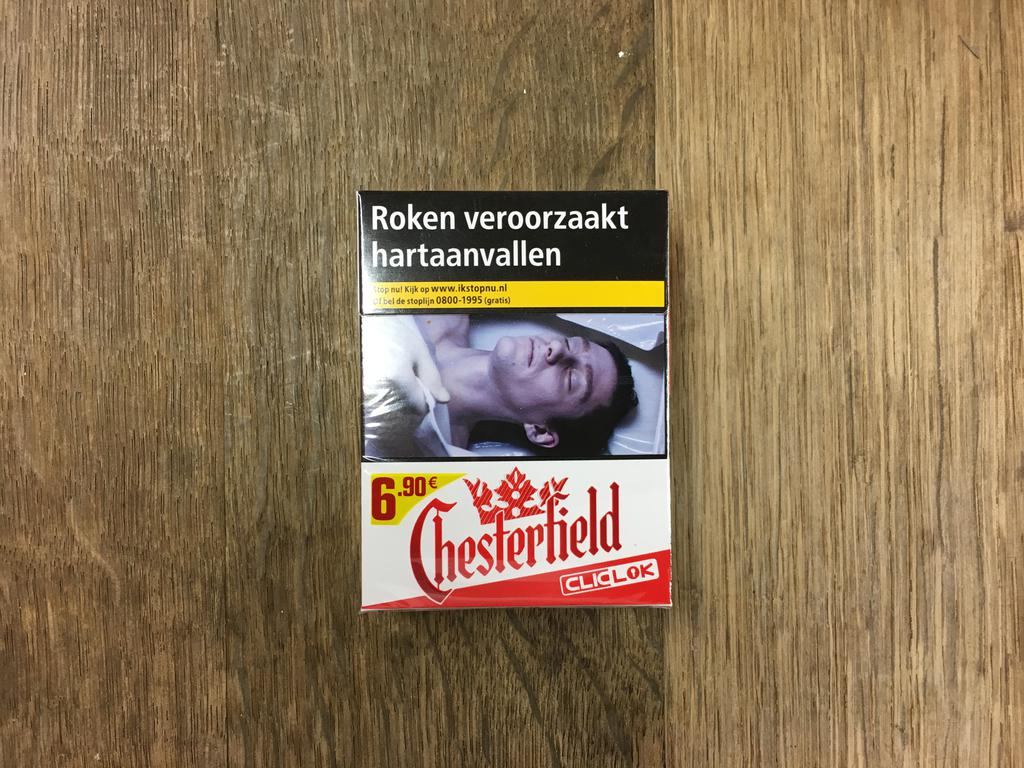chesterfield_red: (362, 192, 669, 604)
